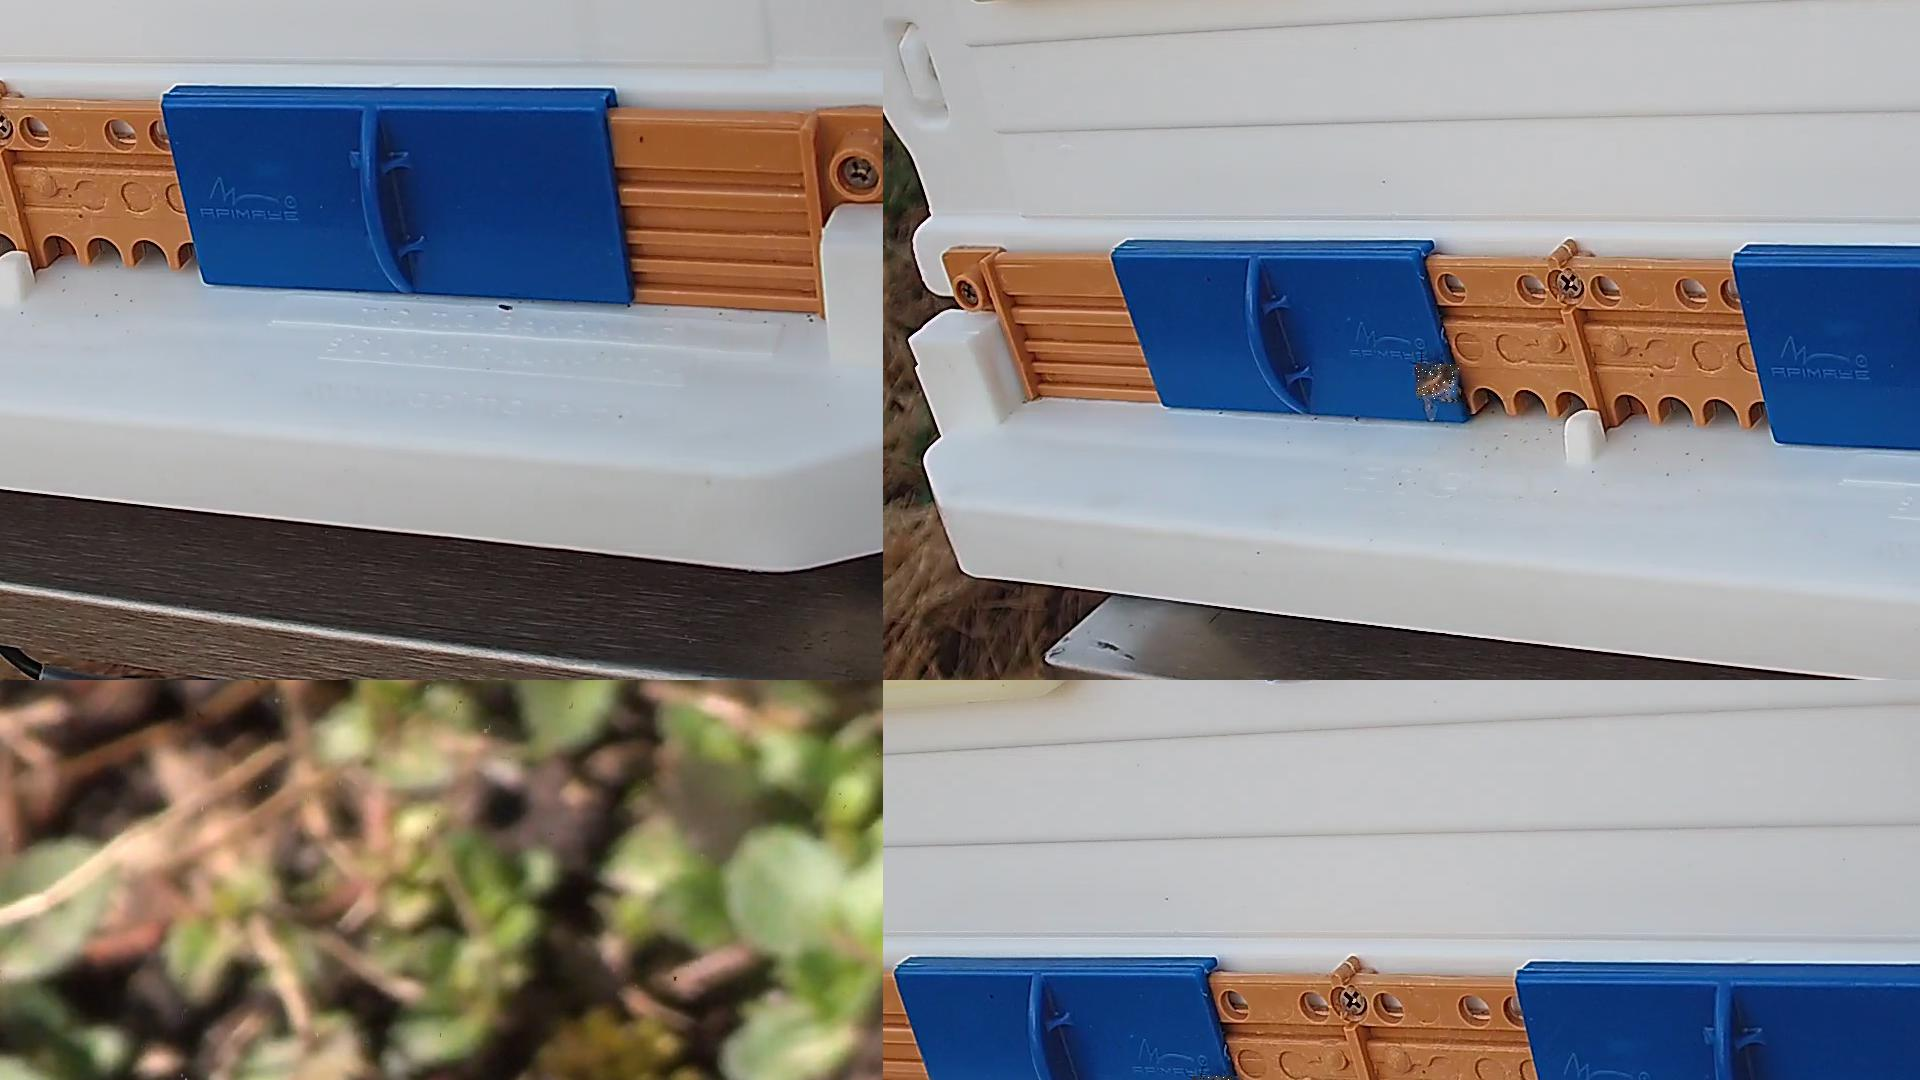bee: (1418, 365, 1462, 402)
